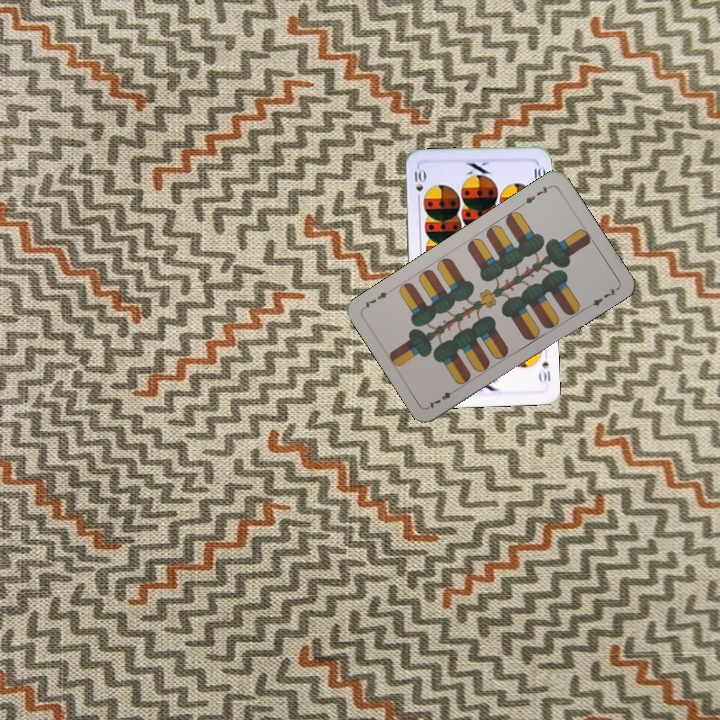E7: (424, 384, 461, 411), (518, 181, 554, 208)
S10: (411, 164, 427, 204), (535, 357, 553, 385)
